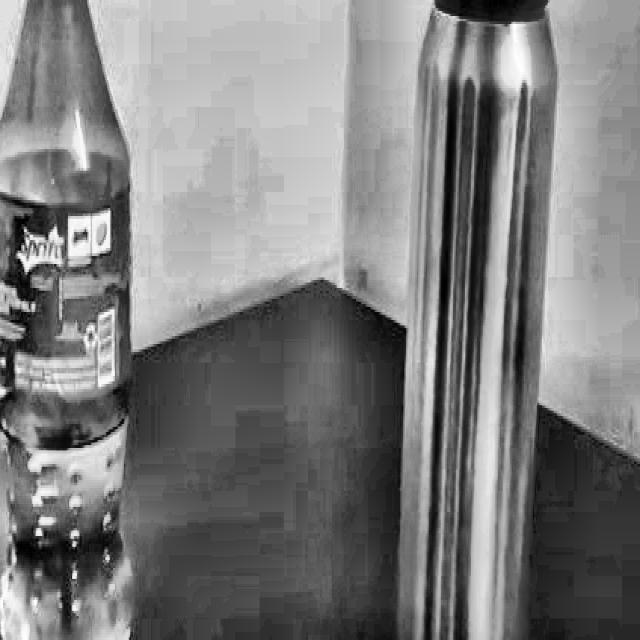bottle: (389, 0, 560, 640)
